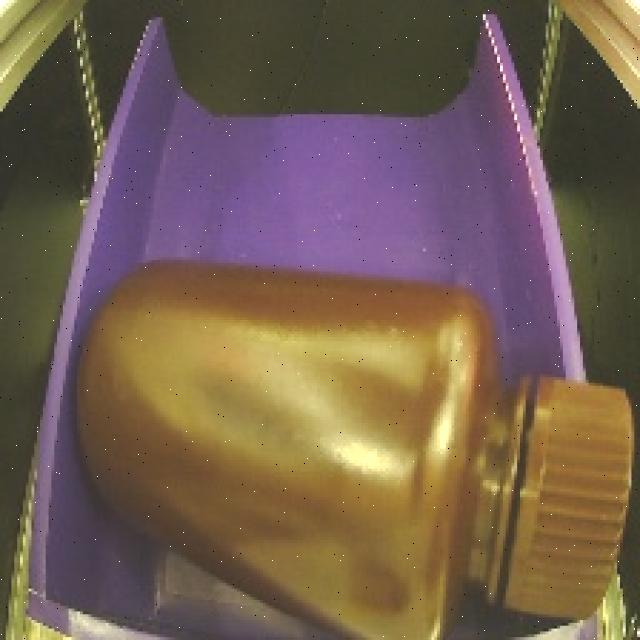plastic: (51, 225, 639, 640)
